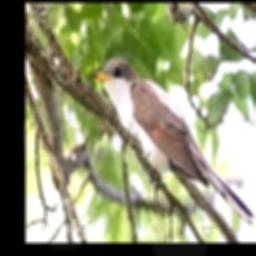Cuckoo: (90, 59, 254, 225)
